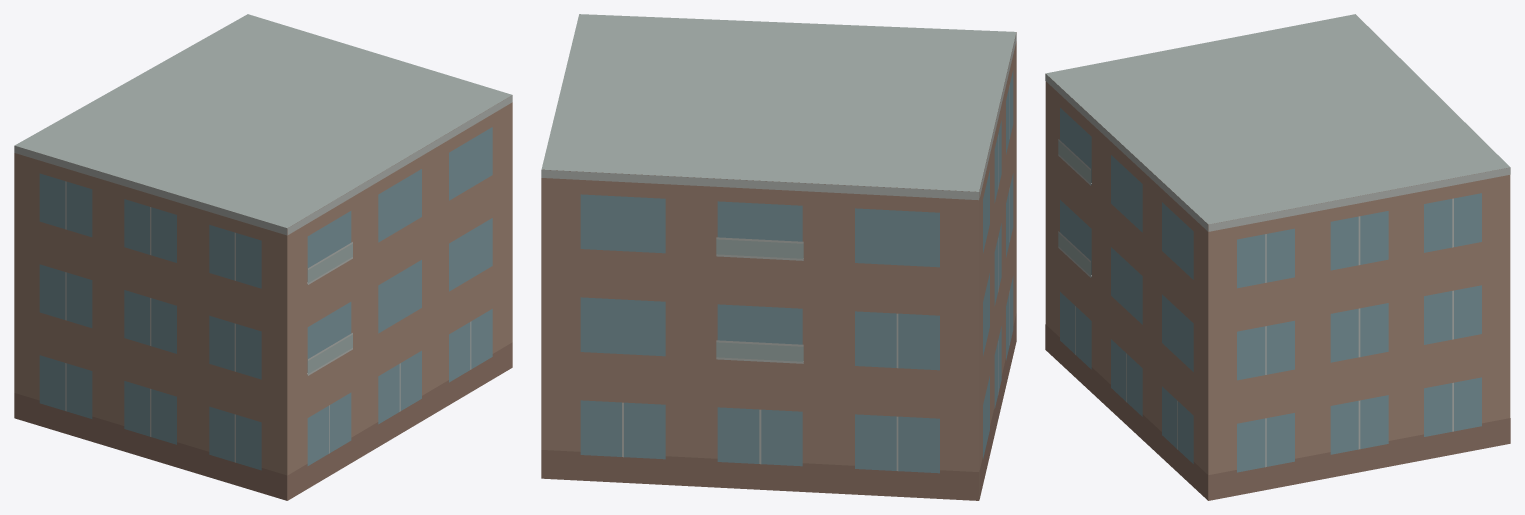
The model's file is survey-upis-32916145.glb.
The picture shows the model from 3 angles, left to right: view 1: azimuth 30°, elevation 25°; view 2: azimuth 150°, elevation 25°; view 3: azimuth 270°, elevation 25°; orthographic projection. The views are drawn at different scales.
Parts seen in each view (by area): view 1: survey-upis-32916145.tmp; view 2: survey-upis-32916145.tmp; view 3: survey-upis-32916145.tmp.
Boxes of the visible parts, x1,y1,x2,y2 form: survey-upis-32916145.tmp: (14,14,512,500); survey-upis-32916145.tmp: (541,14,1016,500); survey-upis-32916145.tmp: (1045,14,1510,500).
Bounding box in the file's own units: 14.88 × 9.1 × 13.89.
